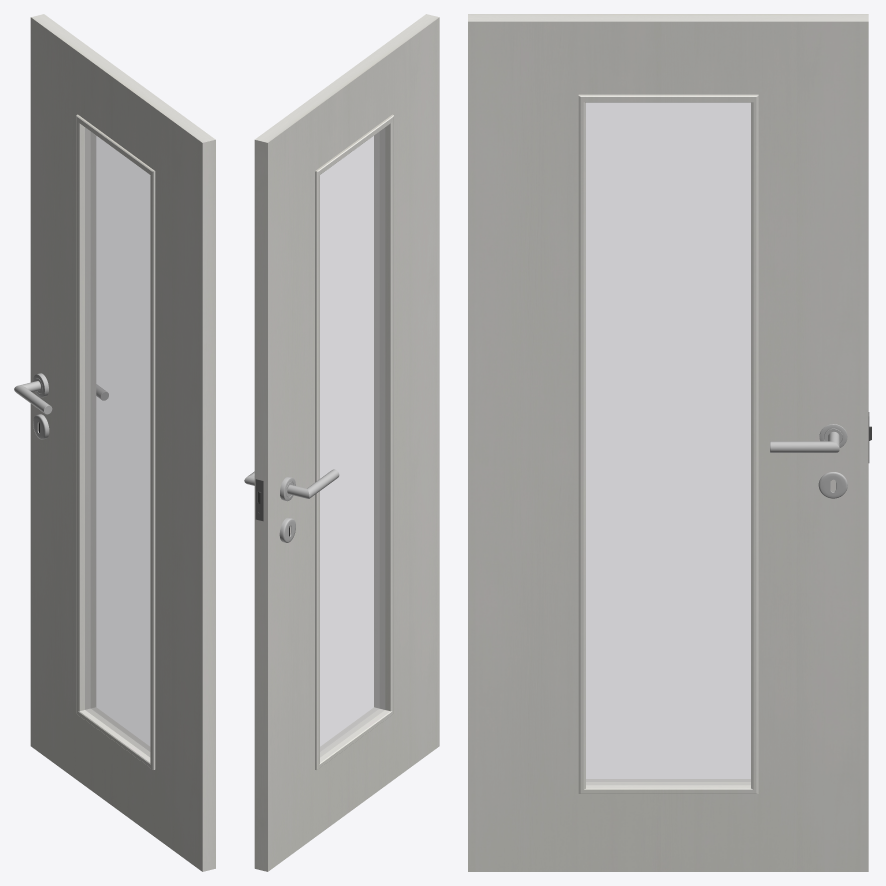
Rendered from door23.glb.
3 views of the same model, side by side, from view 1: azimuth 30°, elevation 25°; view 2: azimuth 150°, elevation 25°; view 3: azimuth 270°, elevation 25° (orthographic). The views are drawn at different scales.
Parts seen in each view (by area): view 1: TB-LA3, Door_Handle_01; view 2: TB-LA3, Door_Handle_01; view 3: TB-LA3, Door_Handle_01.
Part boxes in pixels (<box>): TB-LA3: <box>30,14,215,871</box>; Door_Handle_01: <box>14,373,108,439</box>; TB-LA3: <box>254,14,439,871</box>; Door_Handle_01: <box>244,469,339,542</box>; TB-LA3: <box>468,14,871,871</box>; Door_Handle_01: <box>770,424,847,498</box>.
Size of the model in its own units: 0.1566 by 1.67 by 0.7187.
6 materials, 1 textured.
